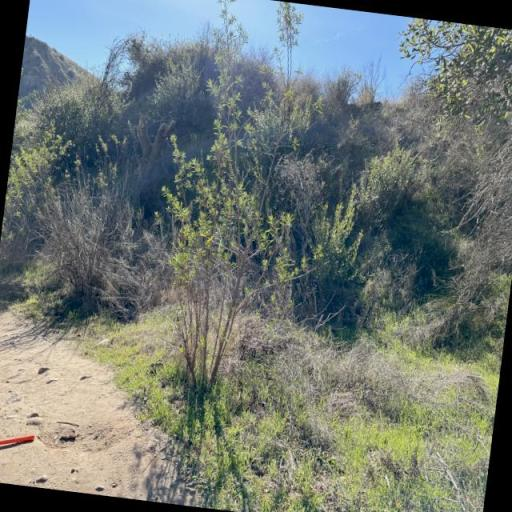mallet: (0, 426, 34, 462)
